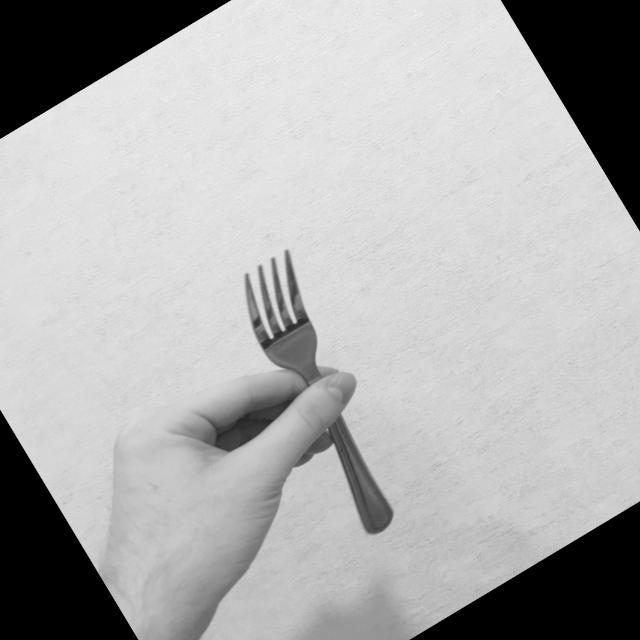fork: (218, 244, 440, 540)
